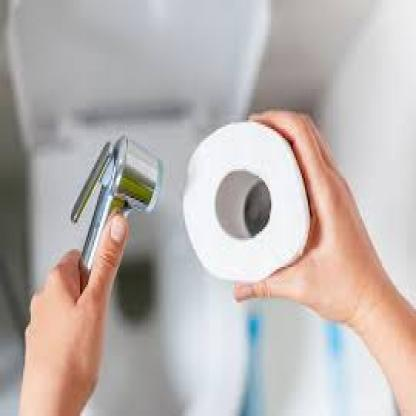tissue: (181, 125, 306, 278)
